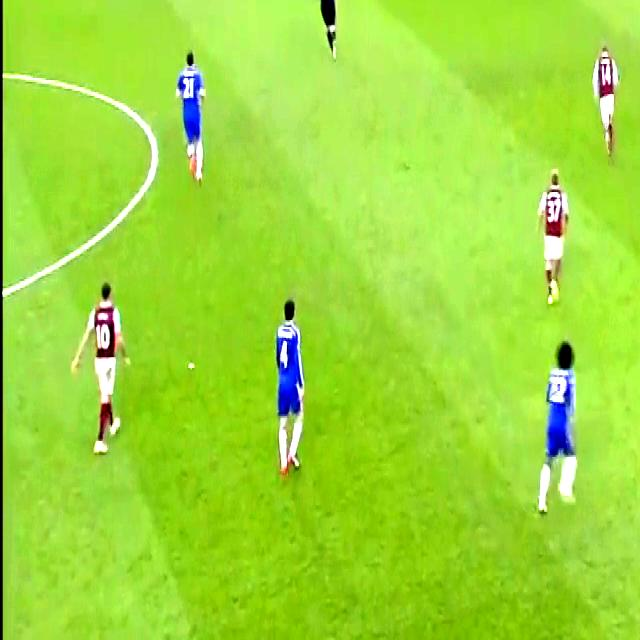referee: (311, 0, 346, 69)
soccer-player: (74, 270, 136, 464), (533, 336, 588, 527), (264, 283, 314, 483), (533, 158, 575, 312), (175, 42, 214, 192), (585, 28, 626, 166)
